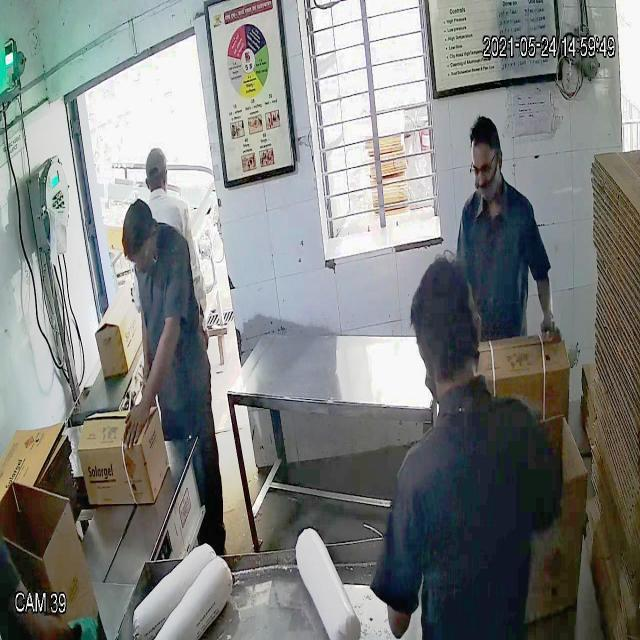glasses: (466, 152, 502, 185)
